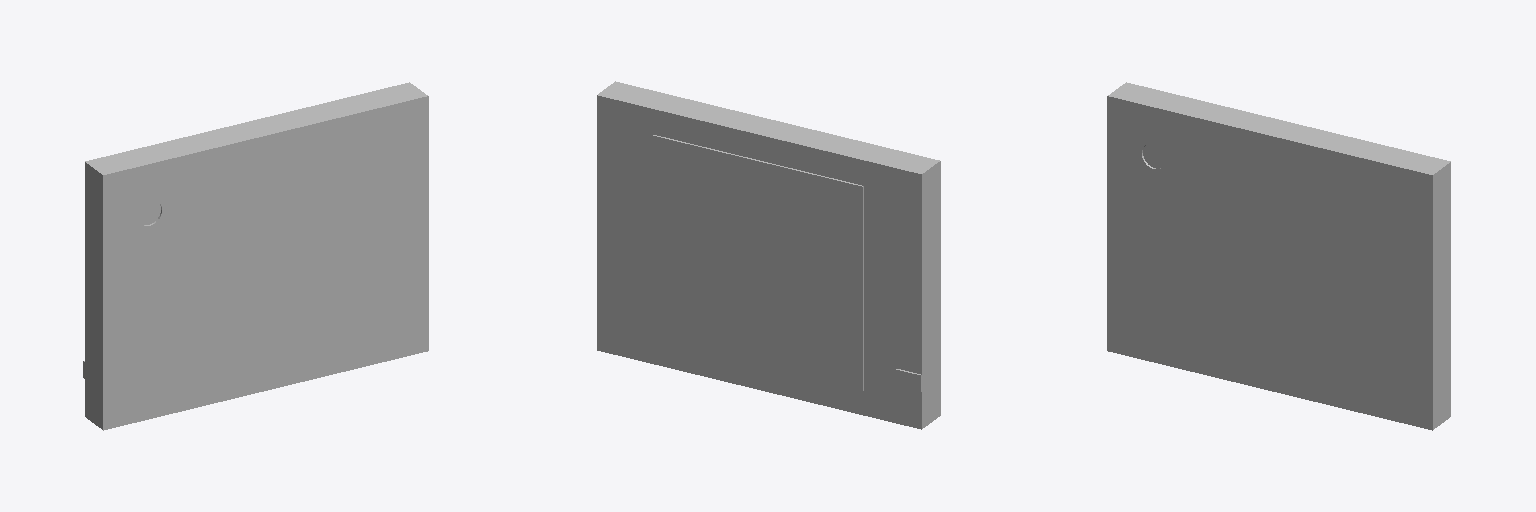
File: wdfn8_5x6.obj
3 renders of one model, left to right at view 1: azimuth 30°, elevation 25°; view 2: azimuth 150°, elevation 25°; view 3: azimuth 330°, elevation 25°, orthographic.
Parts seen in each view (by area): view 1: Body; view 2: Body; view 3: Body.
Part boxes in pixels (left/top/right/bottom): Body: left=83, top=82, right=428, bottom=430; Body: left=597, top=81, right=940, bottom=429; Body: left=1107, top=82, right=1450, bottom=430.
Bounding box in the file's own units: 8 × 6 × 0.85.